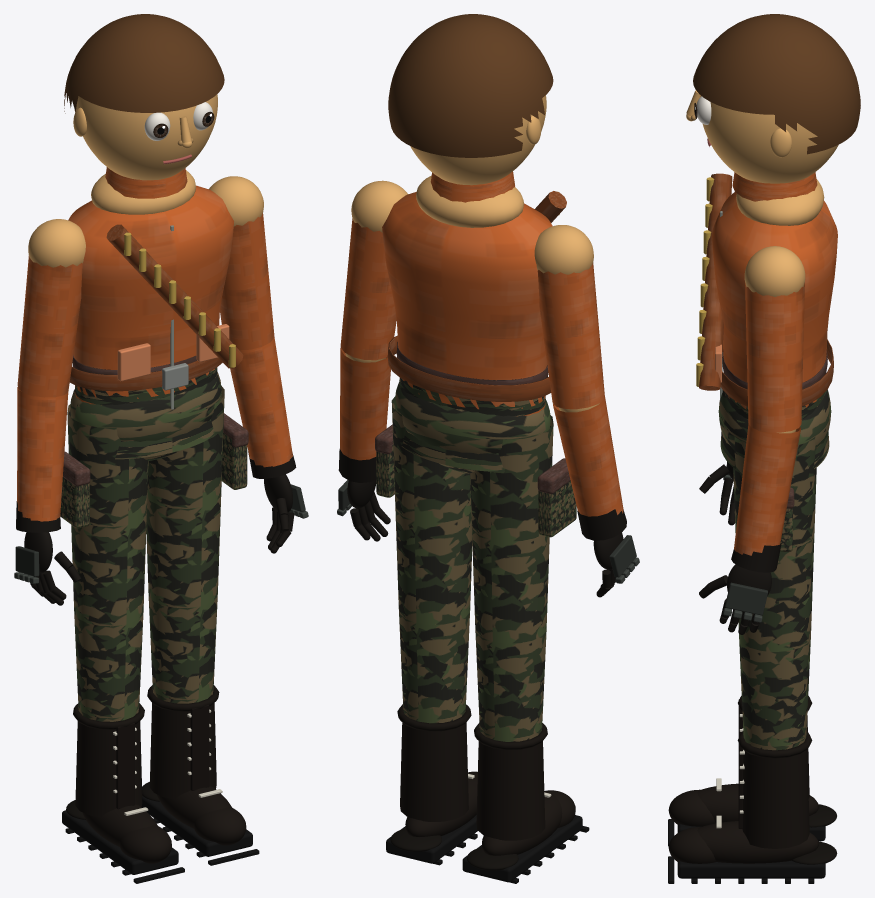
The model's file is 03-bandouliere-a-cartouches.glb.
The picture shows the model from 3 angles, left to right: view 1: azimuth 30°, elevation 25°; view 2: azimuth 150°, elevation 25°; view 3: azimuth 270°, elevation 25°; orthographic projection. The views are drawn at different scales.
Bounding box in the file's own units: 0.6344 × 1.77 × 0.3715.
28 materials, 5 textured.
